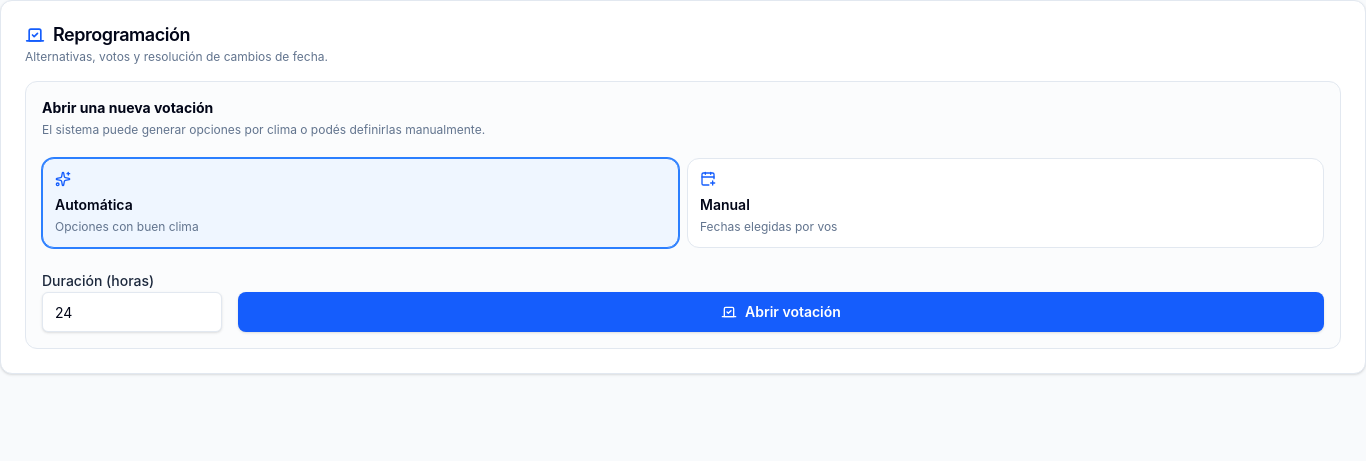
Test: VotingPanel › abre una votación automática como organizador
This screenshot has width=1366, height=461.
Click the button "Abrir votación": (781, 312) [238,292,1324,332]
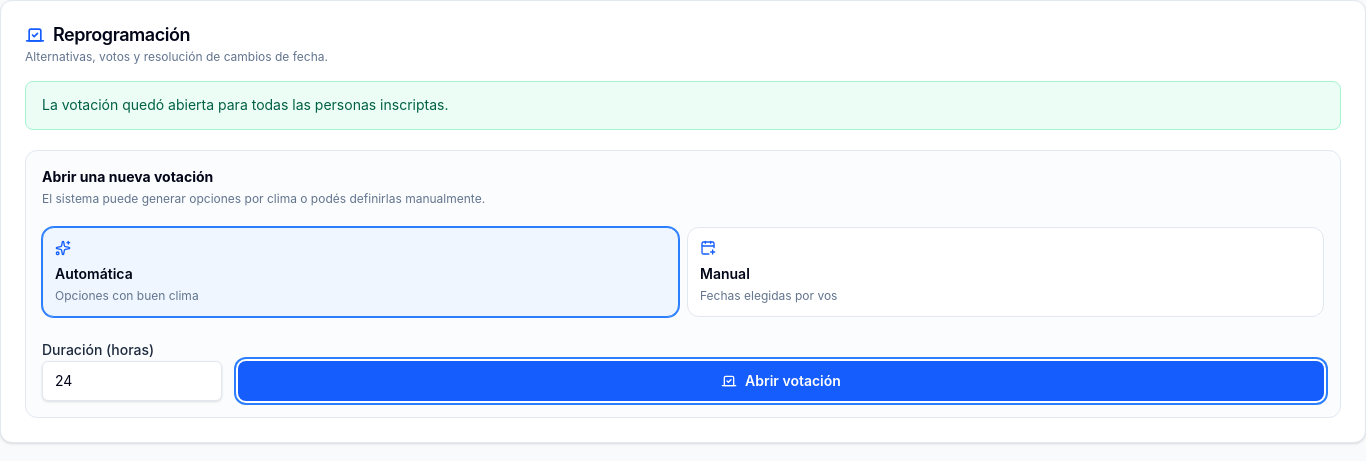
Now the text "La votación quedó abierta para todas las personas inscriptas." is shown, box [42,96,448,113]
